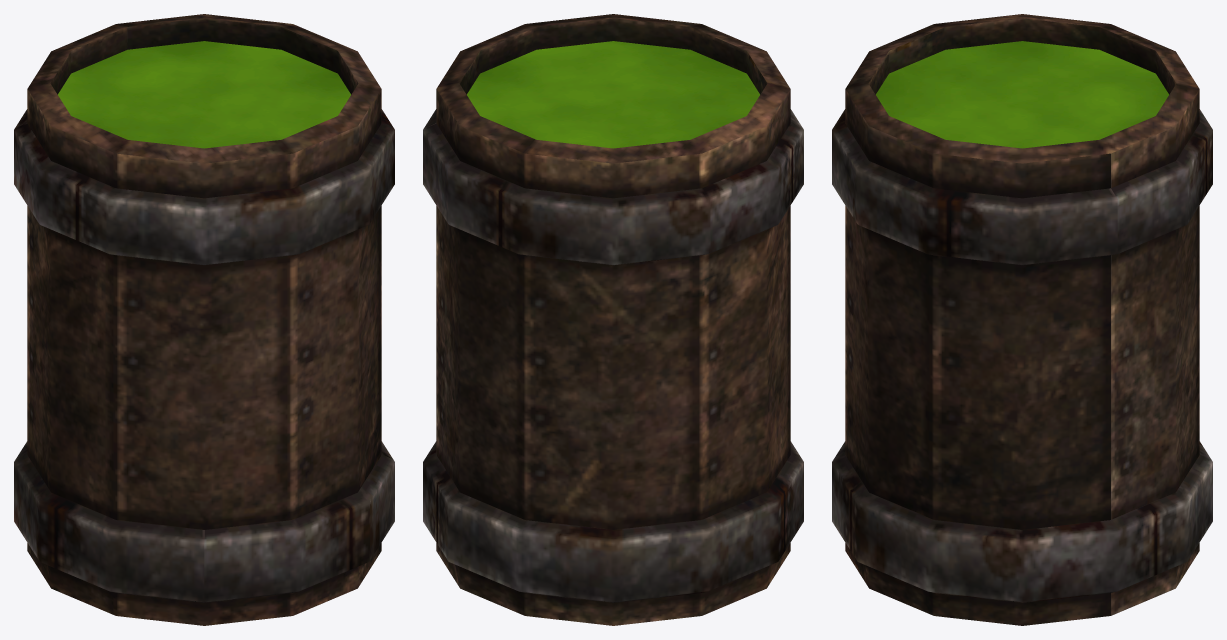
Rendered from acid_container.dae.
3 views of the same model, side by side, from view 1: azimuth 30°, elevation 25°; view 2: azimuth 150°, elevation 25°; view 3: azimuth 270°, elevation 25° (orthographic).
Visible parts, largest first — view 1: pCylinder1, pCylinder2; view 2: pCylinder1, pCylinder2; view 3: pCylinder1, pCylinder2.
Part boxes in pixels (<box>): pCylinder1: <box>14,14,394,625</box>; pCylinder2: <box>58,41,350,148</box>; pCylinder1: <box>423,14,803,625</box>; pCylinder2: <box>467,41,759,148</box>; pCylinder1: <box>832,14,1212,625</box>; pCylinder2: <box>876,41,1168,148</box>.
Bounding box in the file's own units: 1.11 × 1.5 × 1.11.
